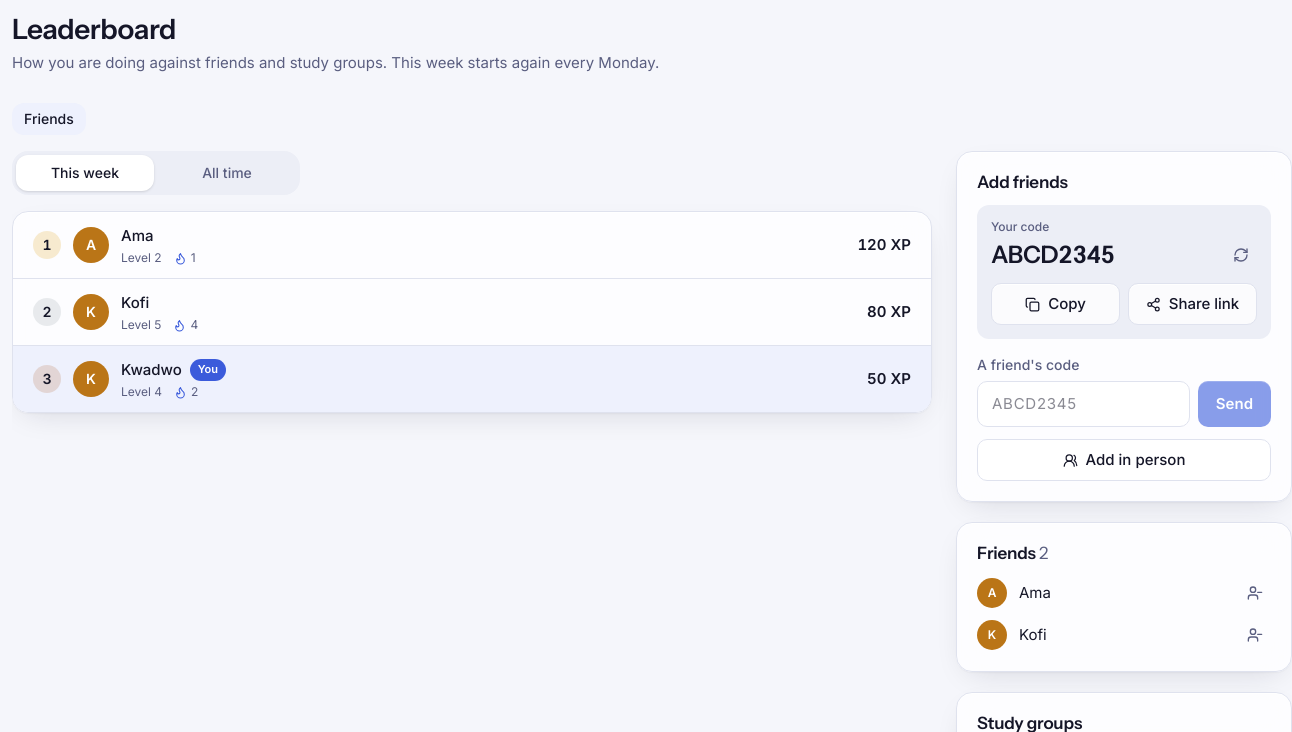
the Leaderboard page › switching to All time re-sorts
The width and height of the screenshot is (1292, 732).
Click the radio button labelled "All time".
click(227, 173)  # box [158,155,296,191]
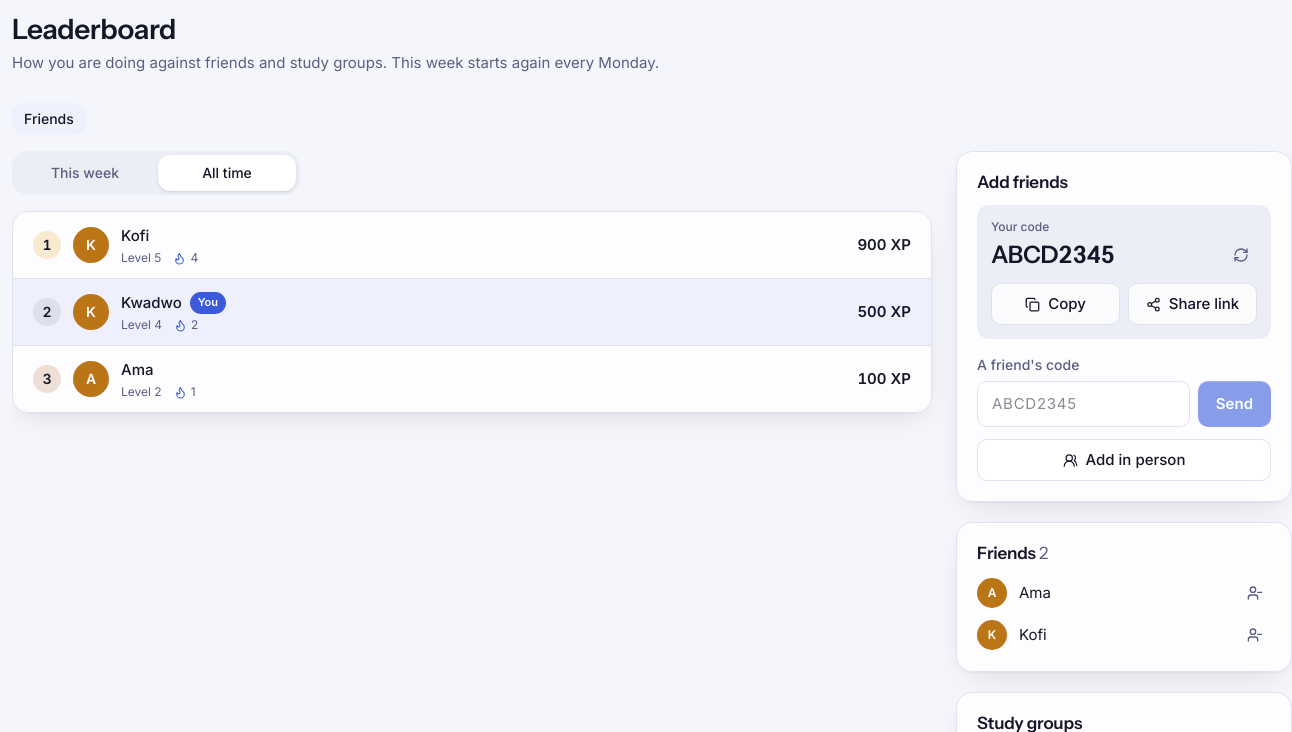
Result: the list item "1 K Kofi Level 5 4 900 XP" is shown at [13,212,931,279]
